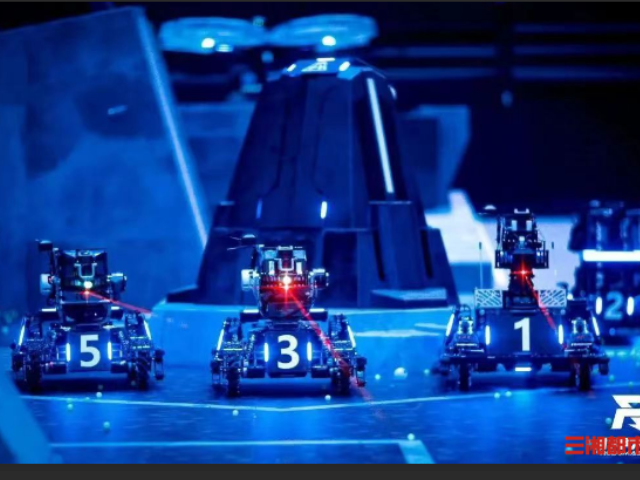rm: (442, 212, 610, 394), (211, 246, 368, 396), (15, 246, 164, 390), (569, 200, 640, 346)
